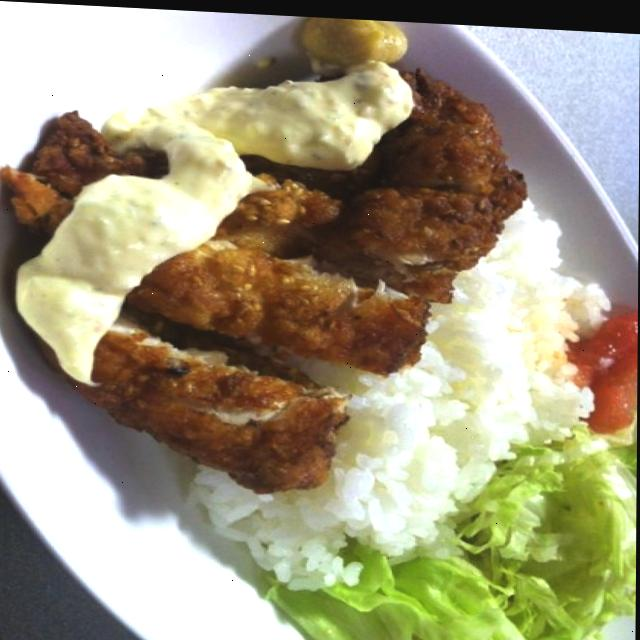鸡肉料理 含炸鸡: (2, 16, 530, 500)
